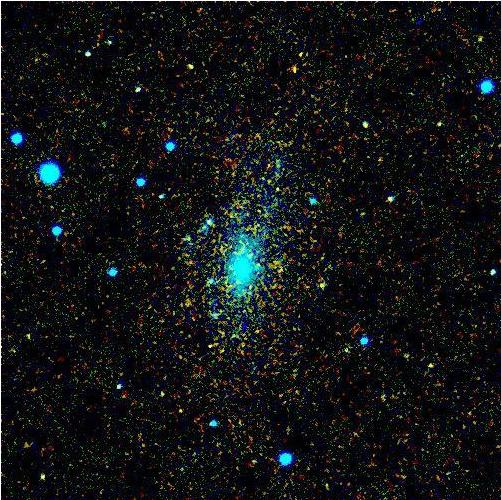star: (300, 275, 330, 305)
